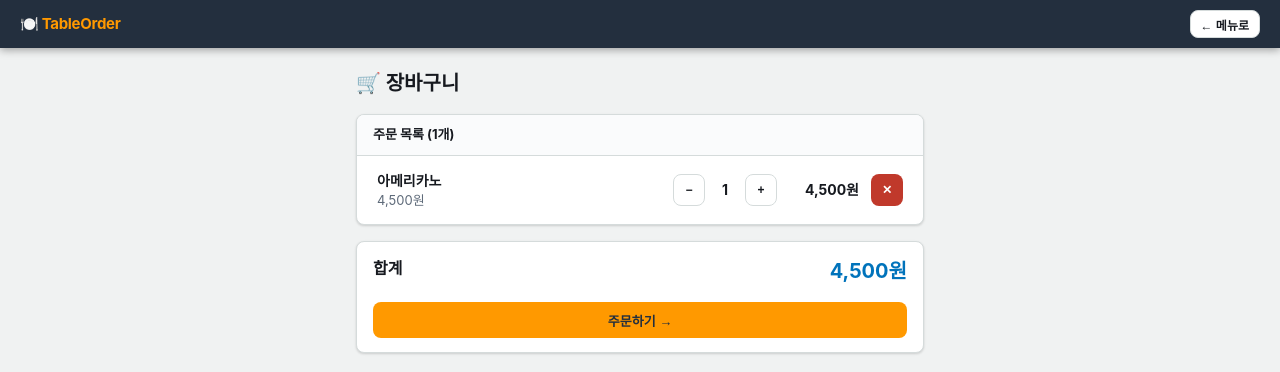
Scenario: CartPage › 수량 증가 버튼 클릭 시 총액 변경
Click the button with test id "quantity-increase-1". click: (761, 190)
box: [745,174,777,206]
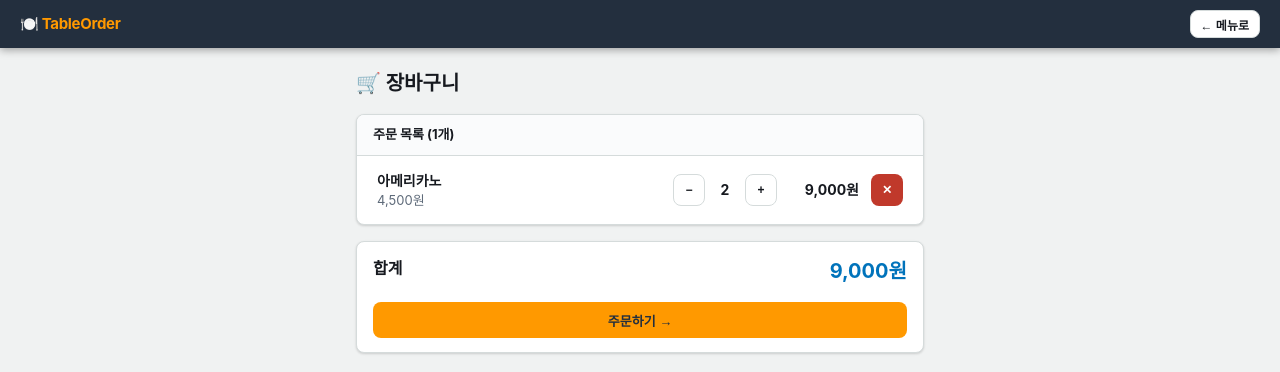
Check: the text with test id "cart-total" shows "9,000", box [830,259,889,283]
